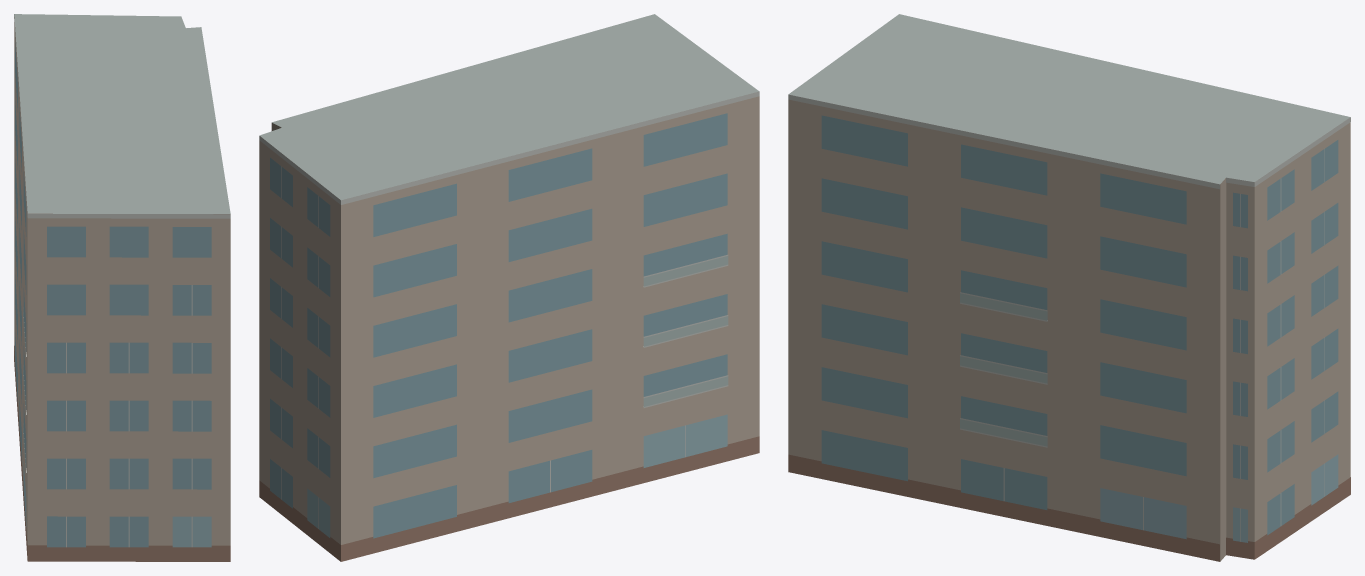
File: survey-upis-32653108.glb
The picture shows the model from 3 angles, left to right: view 1: azimuth 30°, elevation 25°; view 2: azimuth 150°, elevation 25°; view 3: azimuth 270°, elevation 25°; orthographic projection. The views are drawn at different scales.
Parts seen in each view (by area): view 1: survey-upis-32653108.tmp; view 2: survey-upis-32653108.tmp; view 3: survey-upis-32653108.tmp.
Part boxes in pixels (x1,y1,x2,y2): survey-upis-32653108.tmp: (14,14,230,561); survey-upis-32653108.tmp: (259,14,759,561); survey-upis-32653108.tmp: (788,14,1350,561).
Size of the model in its own units: 17.91 by 18.5 by 24.99.
